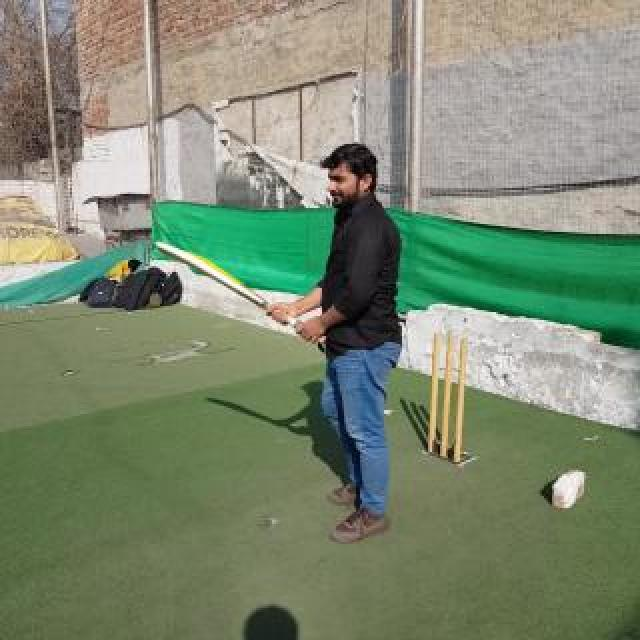bat: (155, 240, 327, 344)
